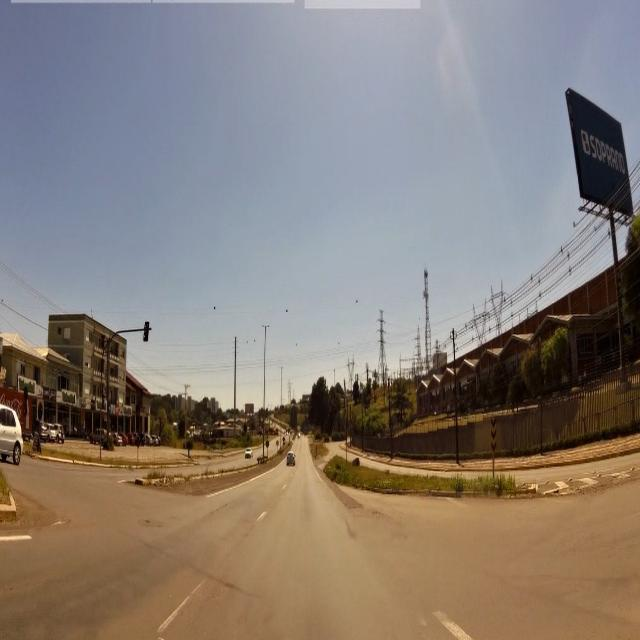MP: (491, 414, 497, 454)
